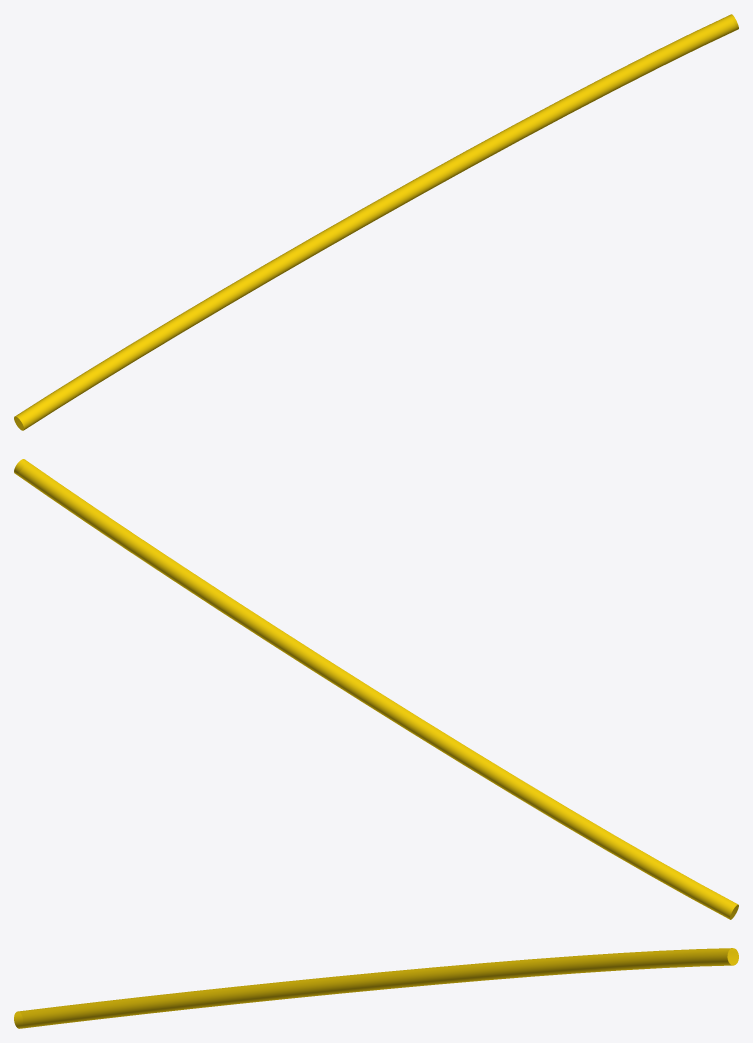
Rendered from Event_421115418_track_55.fbx.
The picture shows the model from 3 angles, top to bottom: view 1: azimuth 30°, elevation 25°; view 2: azimuth 150°, elevation 25°; view 3: azimuth 330°, elevation 25°; orthographic projection. The views are drawn at different scales.
Parts seen in each view (by area): view 1: Model; view 2: Model; view 3: Model.
Part boxes in pixels (x1=…): Model: x1=14, y1=14, x2=738, y2=430; Model: x1=14, y1=459, x2=738, y2=919; Model: x1=14, y1=948, x2=738, y2=1028.
Size of the model in its own units: 1.95 by 0.6803 by 0.1332.
